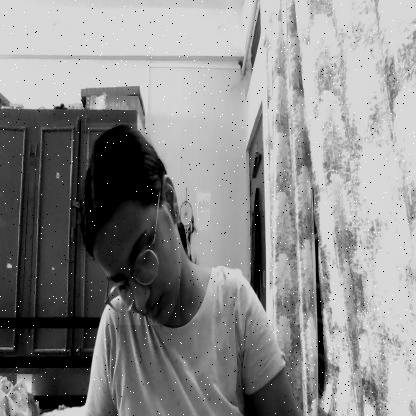Distracted: (81, 123, 180, 325)
